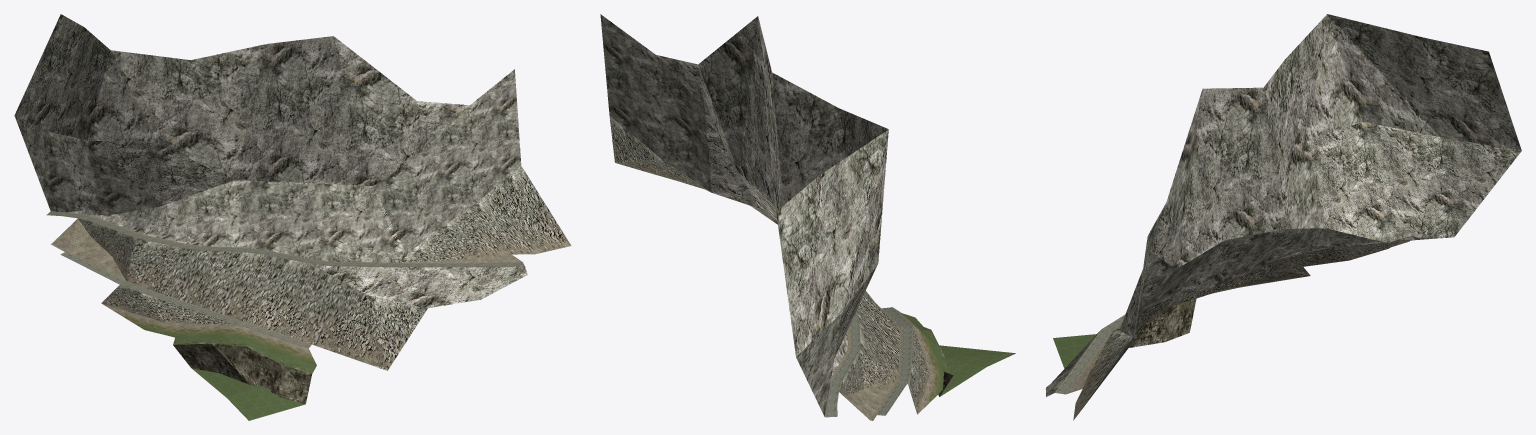
File: cs_landbit_40.obj
The picture shows the model from 3 angles, left to right: view 1: azimuth 30°, elevation 25°; view 2: azimuth 150°, elevation 25°; view 3: azimuth 270°, elevation 25°; orthographic projection. The views are drawn at different scales.
Visible parts, largest first — view 1: cs_landbit_40; view 2: cs_landbit_40; view 3: cs_landbit_40.
Part boxes in pixels (x1,y1,x2,y2): cs_landbit_40: [14, 14, 571, 420]; cs_landbit_40: [600, 14, 1015, 420]; cs_landbit_40: [1045, 14, 1521, 420].
Bounding box in the file's own units: 250 × 195 × 250.
